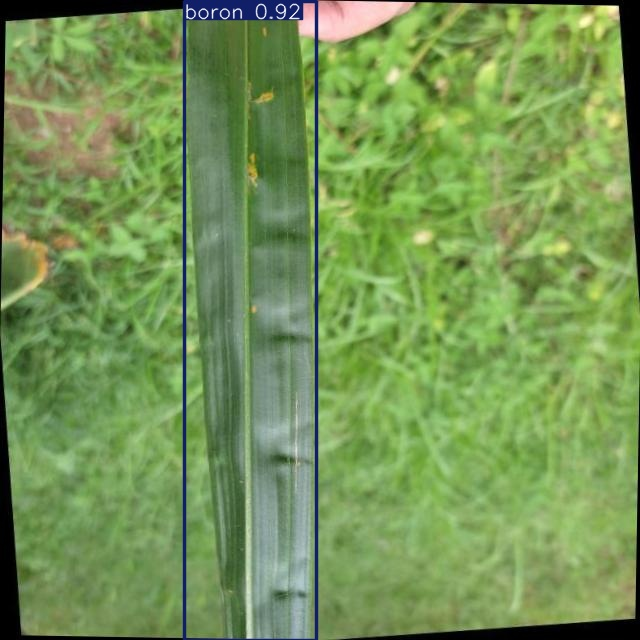nitrogen: (184, 1, 316, 640)
